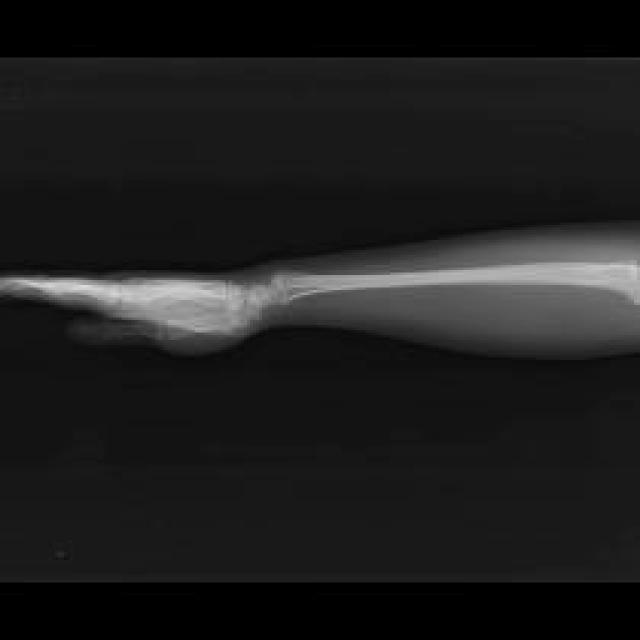normal: (0, 260, 640, 332)
